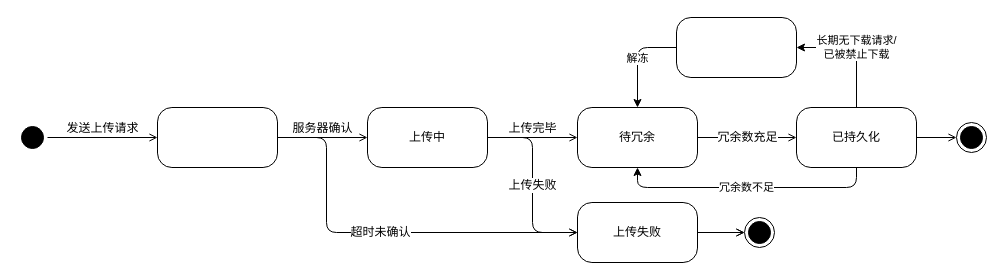
The diagram is 1004 pixels wide and 280 high, and some of its shapes have lost their labels. Each missing label, with the centre of its shape:
冻结中: pixel 736 47
等待上传: pixel 217 137
